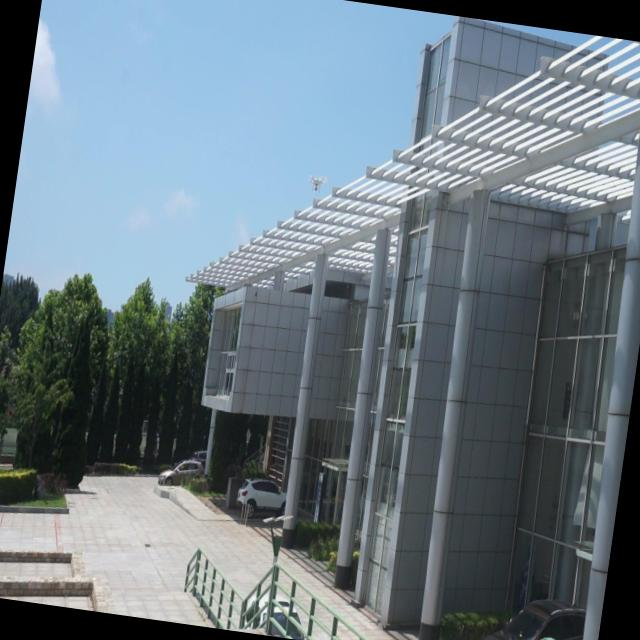drone: (306, 169, 330, 196)
